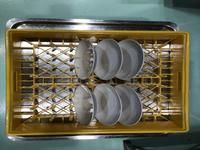Dish: (93, 83, 124, 125), (114, 83, 142, 125), (95, 39, 123, 80), (117, 39, 144, 79), (74, 38, 98, 80), (74, 84, 97, 126)
